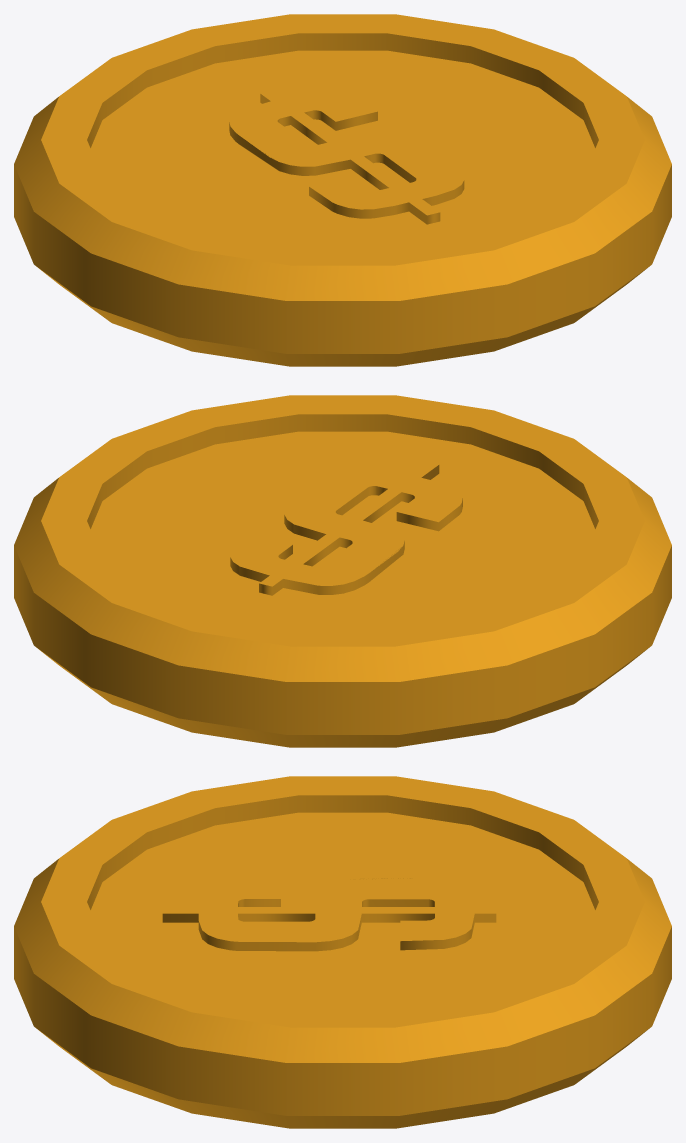
The model's file is Coin3d.glb.
3 views of the same model, one above another, from view 1: azimuth 30°, elevation 25°; view 2: azimuth 150°, elevation 25°; view 3: azimuth 270°, elevation 25° (orthographic).
Visible parts, largest first — view 1: coin3d; view 2: coin3d; view 3: coin3d.
Part boxes in pixels (left/top/right/bottom): coin3d: left=14, top=14, right=671, bottom=366; coin3d: left=14, top=395, right=671, bottom=747; coin3d: left=14, top=776, right=671, bottom=1128.
Bounding box in the file's own units: 1.97 × 0.3393 × 2.
